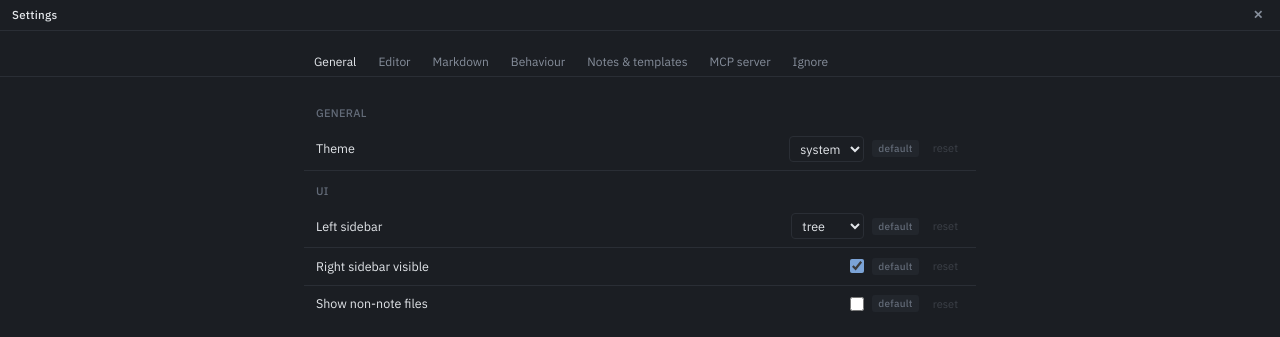
SettingsPanel › shows MCP server status with no token/rotate controls when auth is off (M10.21)
The image size is (1280, 337).
Click the tab "MCP server". click: (740, 62)
box: top-left (700, 47), bottom-right (781, 77)
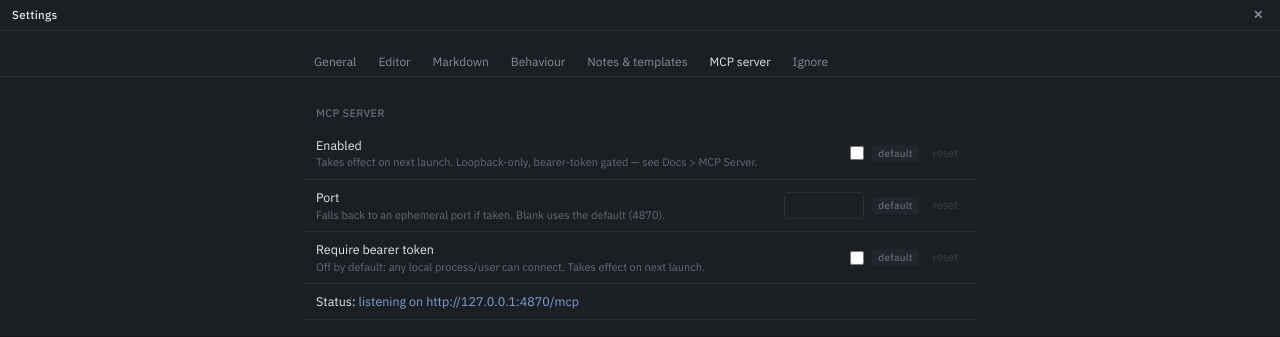
Check: the text "listening on http://127.0.0.1:4870/mcp" is shown, box top-left (358, 293), bottom-right (579, 309)
